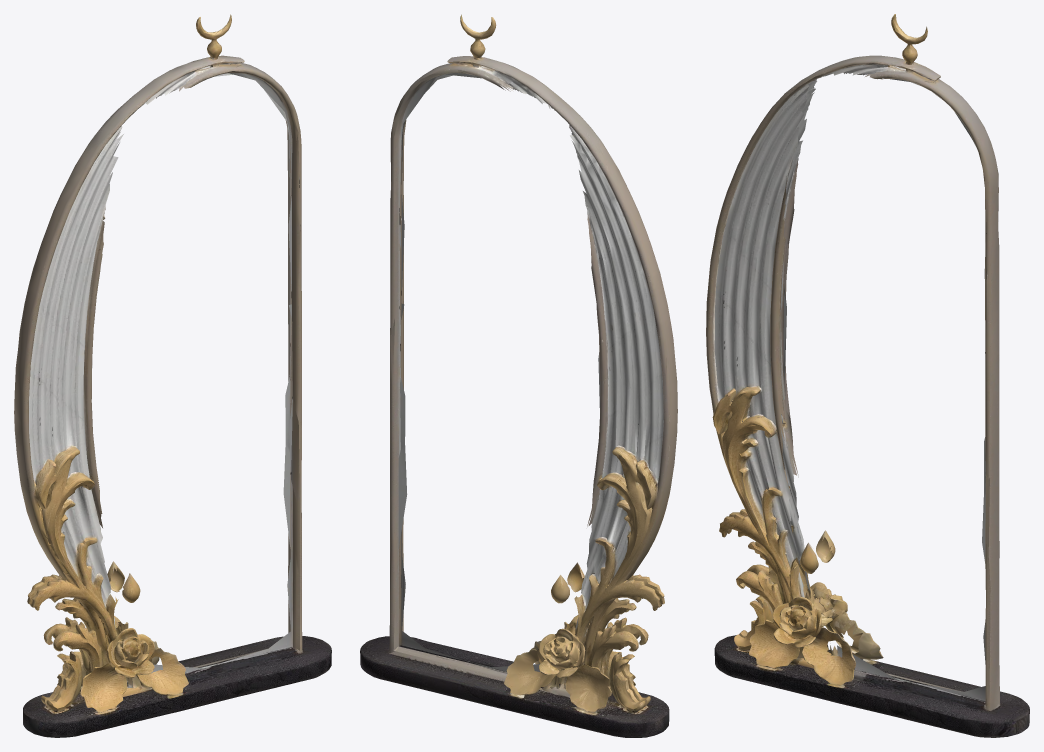
Rendered from P3_pier_mirror_game.glb.
3 renders of one model, left to right at view 1: azimuth 30°, elevation 25°; view 2: azimuth 150°, elevation 25°; view 3: azimuth 330°, elevation 25°, orthographic.
Parts seen in each view (by area): view 1: P3_pier_mirror; view 2: P3_pier_mirror; view 3: P3_pier_mirror.
Boxes of the visible parts, box(x1,y1,x2,y2) form: P3_pier_mirror: box(14, 14, 331, 737); P3_pier_mirror: box(360, 14, 677, 737); P3_pier_mirror: box(706, 14, 1029, 737).
Bounding box in the file's own units: 1.3 × 2.7 × 0.3309.
Materials: 1 (1 with a texture image).
